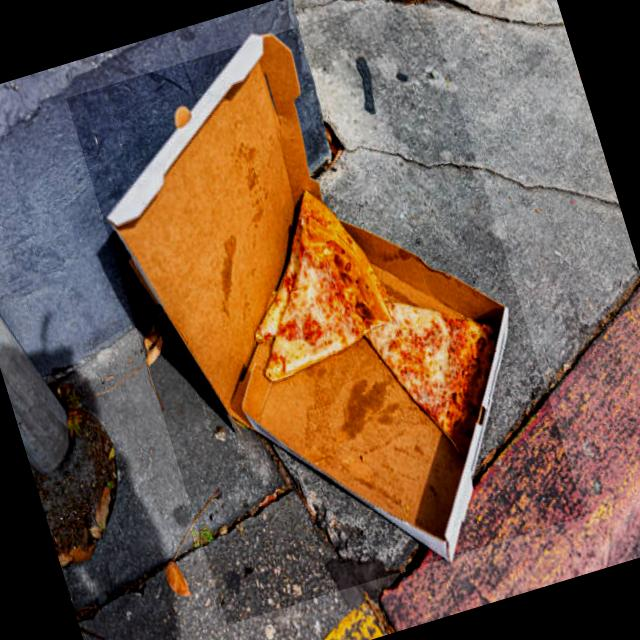Food Carton: (65, 0, 584, 625)
